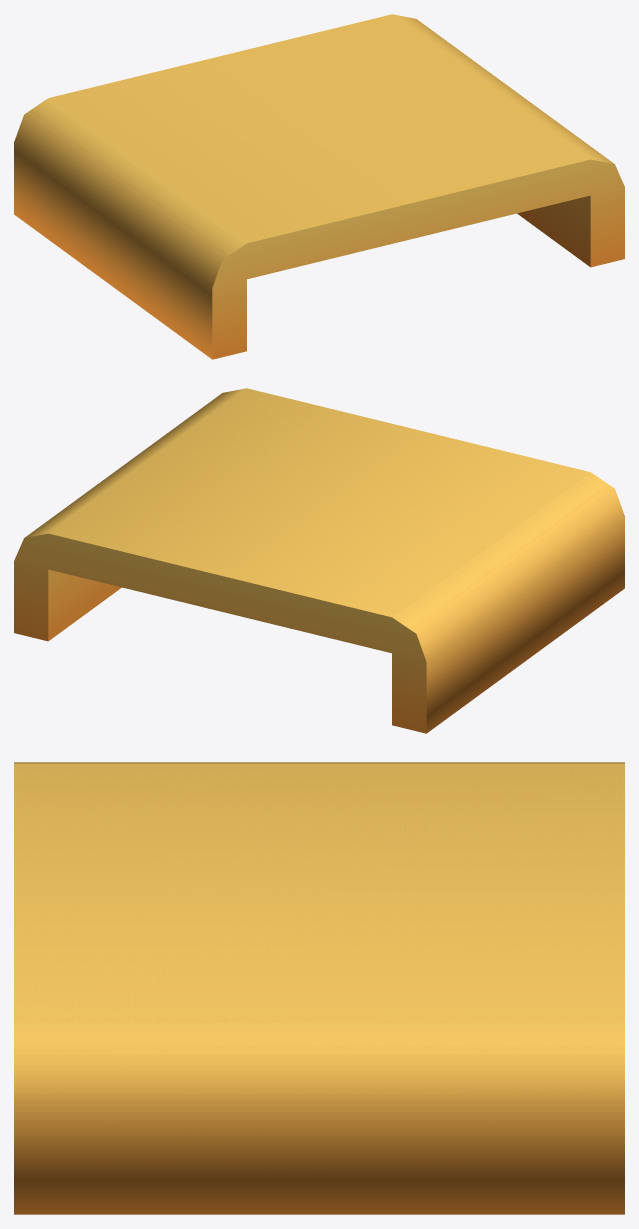
File: space_bed.glb
3 renders of one model, top to bottom at view 1: azimuth 30°, elevation 25°; view 2: azimuth 150°, elevation 25°; view 3: azimuth 270°, elevation 25°, orthographic. The views are drawn at different scales.
Parts seen in each view (by area): view 1: bed-single-cover; view 2: bed-single-cover; view 3: bed-single-cover.
Boxes of the visible parts, <box> form: bed-single-cover: <box>14,14,624,359</box>; bed-single-cover: <box>14,388,624,733</box>; bed-single-cover: <box>14,762,624,1214</box>.
Bounding box in the file's own units: 2.8 × 0.7 × 2.33.
1 material, 1 textured.
